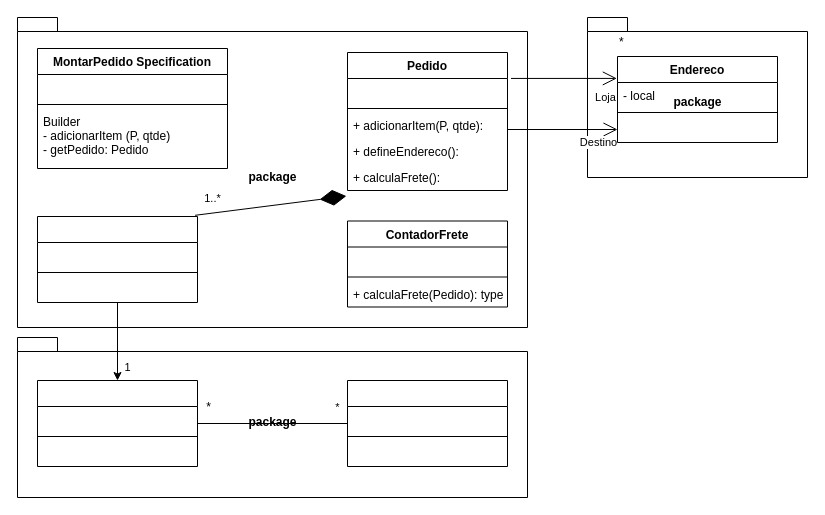
The diagram is 825 pixels wide and 515 high, and some of its shapes have lost their labels. The shapes that lost their labels are listed below. From the top down, each one's centre as x and y in pixels, then its label:
point 117,259: Item
point 117,423: Produto
point 427,423: DescricaoProduto
